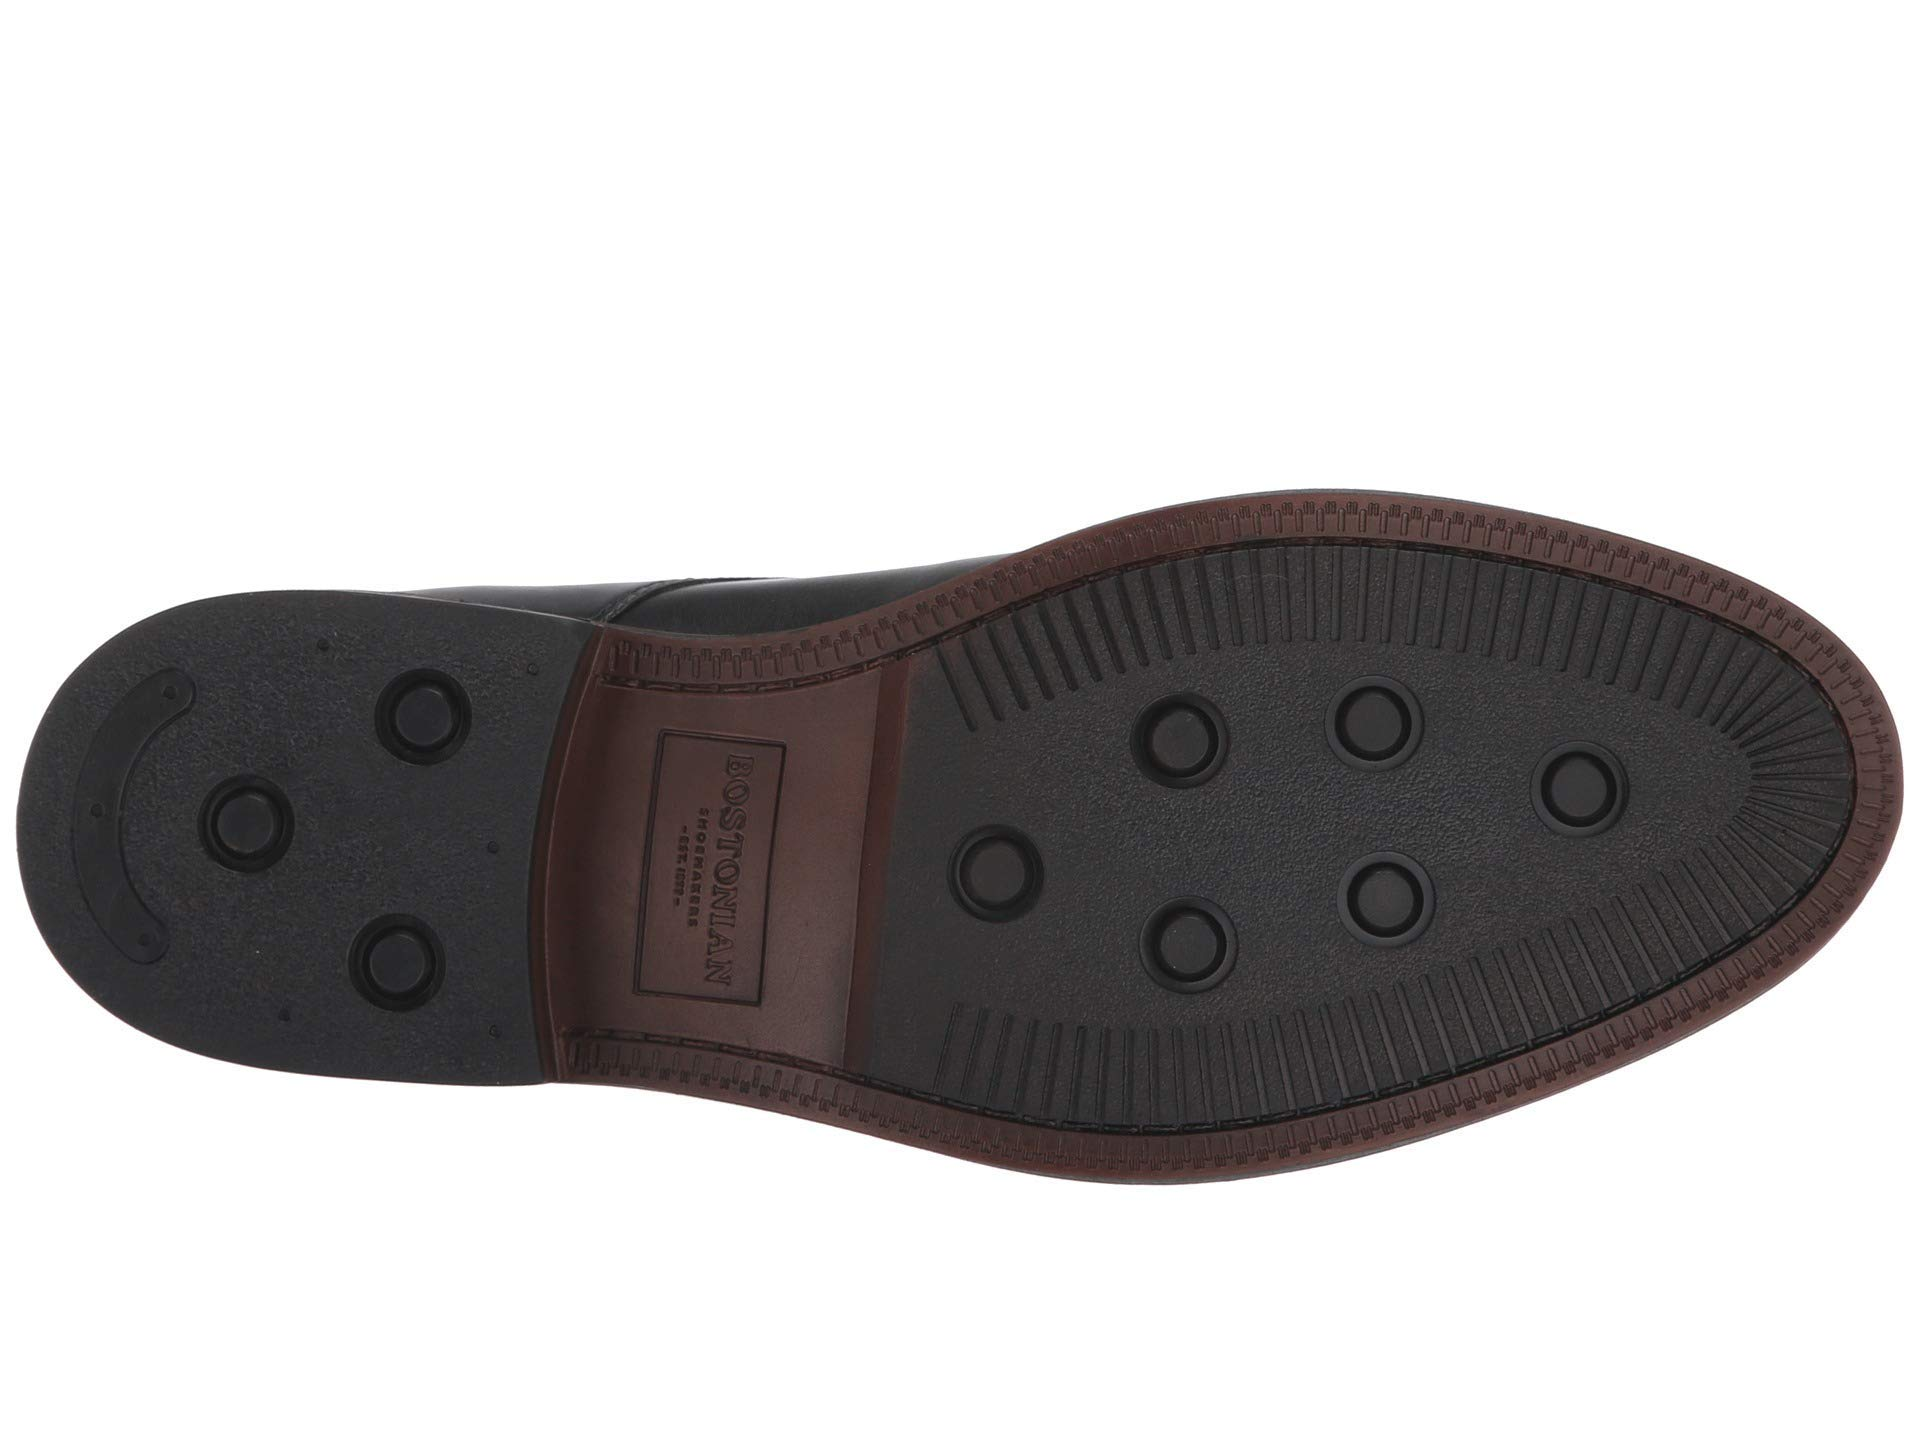circle: (1070, 557, 1468, 980), (148, 635, 491, 1016), (1479, 551, 1767, 905), (593, 715, 853, 1019)
line: (1070, 557, 1468, 980), (1479, 551, 1767, 905)
quad: (1070, 557, 1468, 980), (1479, 551, 1767, 905), (593, 715, 853, 1019)
text: (593, 715, 853, 1019)
